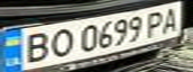0: (75, 21, 100, 53)
6: (96, 18, 115, 50)
9: (124, 12, 148, 43), (109, 16, 133, 47)
A: (157, 5, 187, 35)
B: (12, 29, 54, 64)
O: (42, 26, 78, 59)
P: (142, 8, 169, 38)
